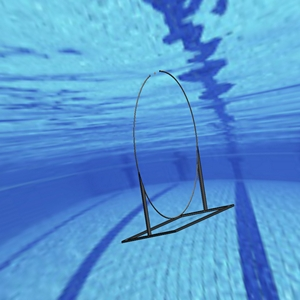circle: (120, 69, 232, 241)
